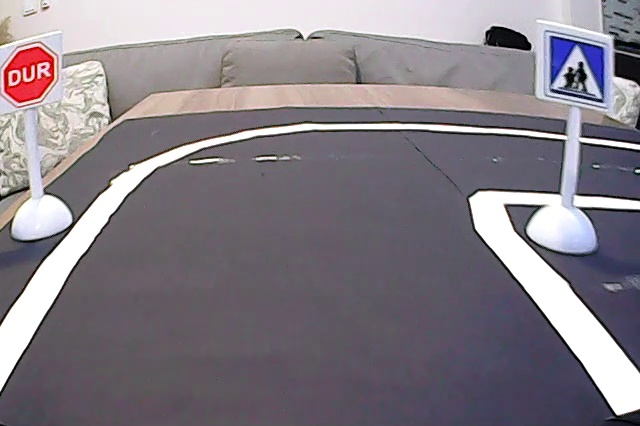school crossing: (543, 31, 608, 106)
stop sign: (1, 40, 61, 108)
